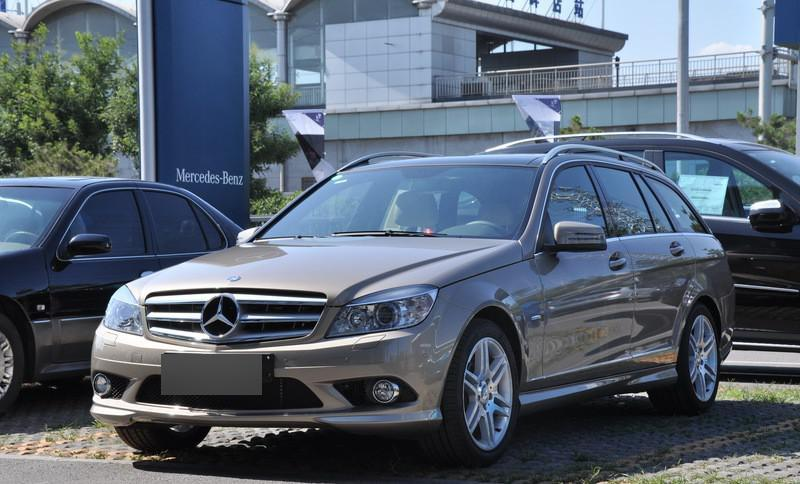Wagon: (88, 143, 737, 469)
